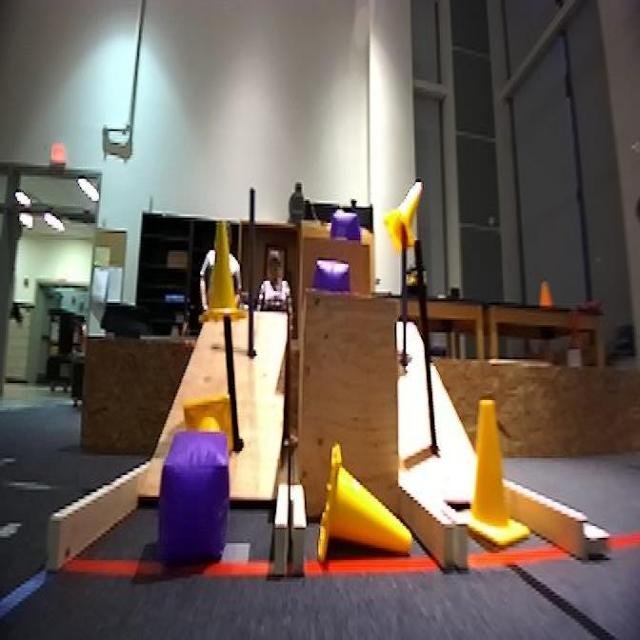frc_cone: (318, 444, 418, 553), (464, 392, 528, 556), (204, 230, 248, 325), (386, 175, 426, 254), (178, 405, 241, 448)
frc_cube: (154, 439, 232, 565), (326, 208, 360, 257), (314, 256, 350, 302)
